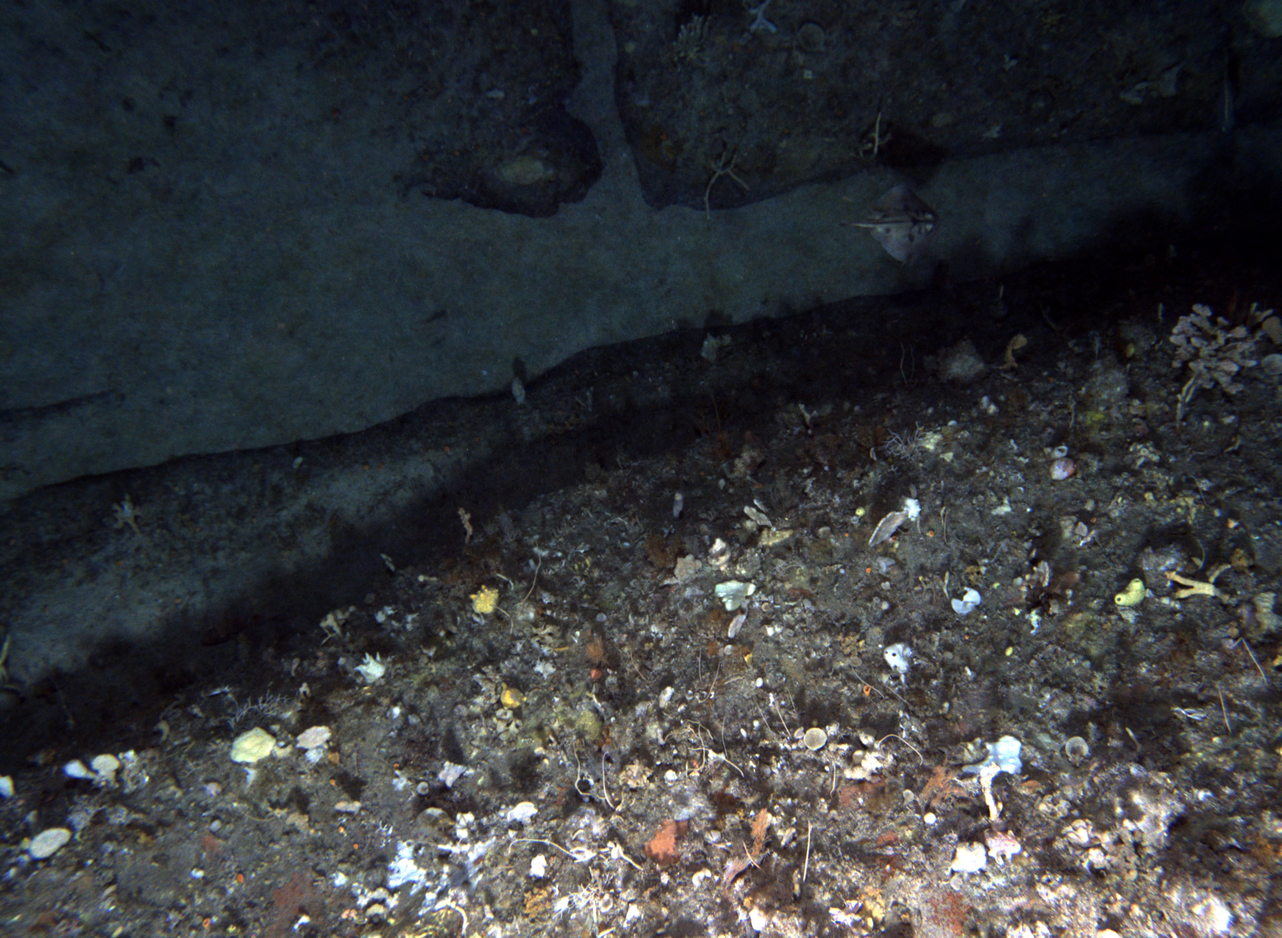Brachionichthyidae: (981, 829, 1024, 865)
